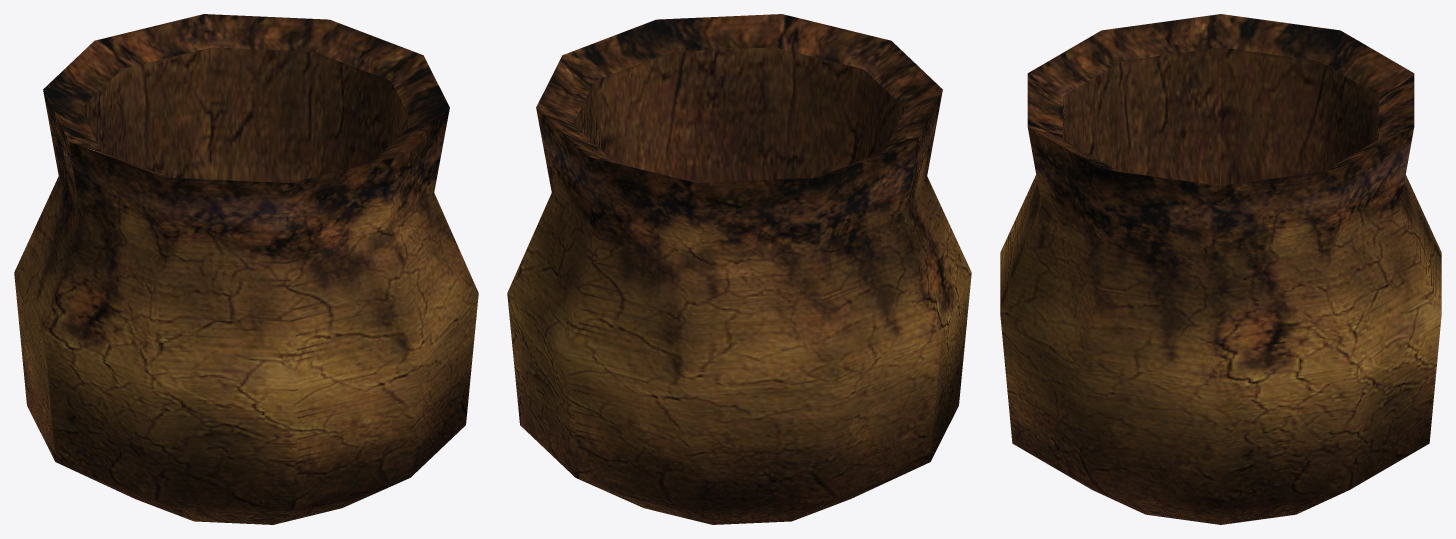
Rendered from hr_ps_boiler1.glb.
The picture shows the model from 3 angles, left to right: view 1: azimuth 30°, elevation 25°; view 2: azimuth 150°, elevation 25°; view 3: azimuth 270°, elevation 25°; orthographic projection.
Parts seen in each view (by area): view 1: hr_ps_boiler1-col; view 2: hr_ps_boiler1-col; view 3: hr_ps_boiler1-col.
Part boxes in pixels (x1,y1,x2,y2): hr_ps_boiler1-col: (14, 14, 478, 524); hr_ps_boiler1-col: (507, 14, 971, 524); hr_ps_boiler1-col: (1000, 14, 1441, 524).
Bounding box in the file's own units: 1.55 × 1.44 × 1.48.
1 material, 1 textured.
